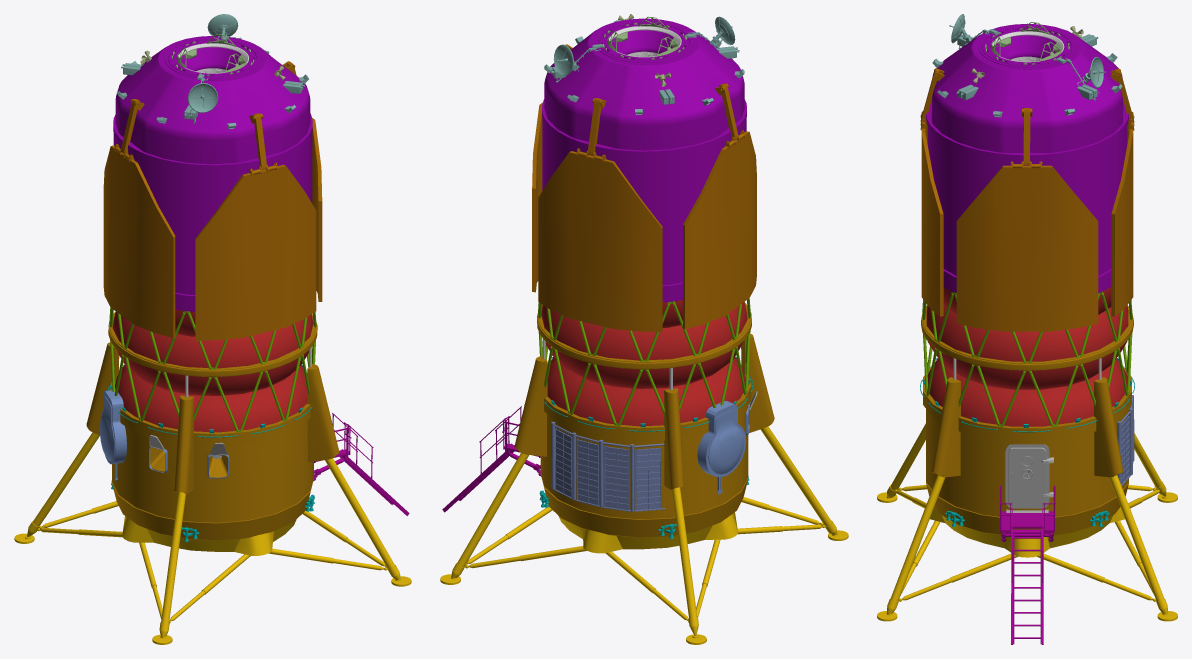
File: BlueMoon_AndyModel_v01.fbx
The picture shows the model from 3 angles, left to right: view 1: azimuth 30°, elevation 25°; view 2: azimuth 150°, elevation 25°; view 3: azimuth 270°, elevation 25°; orthographic projection. The views are drawn at different scales.
Parts seen in each view (by area): view 1: BodyGEO, Panel_GEO_4, Panel_GEO_6, GoldBase, TopInstrumentation, Leg_Supports_4, Leg_Supports_2, Panel_GEO_3, pCylinder115, Legs_Part_1, Leg_Supports_1, Legs_Part_13 (+2 smaller); view 2: BodyGEO, Panel_GEO_5, Panel_GEO_6, SolarPanel_2_group209_pCylinder161, GoldBase, Leg_Supports_3, TopInstrumentation, Leg_Supports_1, pCylinder25, Leg_Supports_2, Panel_GEO_3, Legs_Part_13 (+3 smaller); view 3: BodyGEO, Panel_GEO_3, Panel_GEO_4, Panel_GEO_5, pCube113, GoldBase, Leg_Supports_3, Leg_Supports_4, TopInstrumentation, Legs_Part_1, Legs_Part_7, SolarPanel_2_group209_pCylinder161 (+4 smaller).
Boxes of the visible parts, x1,y1,x2,y2 form: BodyGEO: (107, 36, 317, 541); Panel_GEO_4: (195, 162, 316, 340); Panel_GEO_6: (103, 144, 175, 337); GoldBase: (122, 516, 296, 555); TopInstrumentation: (117, 14, 308, 129); Leg_Supports_4: (307, 364, 339, 461); Leg_Supports_2: (174, 395, 193, 493); Panel_GEO_3: (310, 113, 322, 301); pCylinder115: (159, 491, 185, 637); Legs_Part_1: (325, 458, 400, 579); Leg_Supports_1: (86, 342, 118, 434); Legs_Part_13: (27, 432, 99, 536); BodyGEO: (537, 18, 753, 538); Panel_GEO_5: (538, 148, 662, 331); Panel_GEO_6: (683, 130, 756, 329); SolarPanel_2_group209_pCylinder161: (551, 421, 665, 512); GoldBase: (558, 512, 737, 553); Leg_Supports_3: (514, 356, 547, 456); TopInstrumentation: (544, 16, 744, 114); Leg_Supports_1: (664, 388, 684, 489); pCylinder25: (708, 409, 745, 474); Leg_Supports_2: (741, 334, 774, 432); Panel_GEO_3: (532, 102, 542, 292); Legs_Part_13: (672, 487, 698, 635); BodyGEO: (920, 23, 1134, 535); Panel_GEO_3: (956, 161, 1098, 331); Panel_GEO_4: (920, 111, 943, 316); Panel_GEO_5: (1111, 112, 1134, 316); pCube113: (1005, 444, 1049, 508); GoldBase: (930, 507, 1124, 557); Leg_Supports_3: (1094, 377, 1123, 477); Leg_Supports_4: (931, 377, 960, 477); TopInstrumentation: (932, 14, 1122, 117); Legs_Part_1: (887, 475, 945, 613); Legs_Part_7: (1109, 475, 1167, 613); SolarPanel_2_group209_pCylinder161: (1117, 395, 1134, 485).
Size of the model in its own units: 1066 by 1657 by 863.
